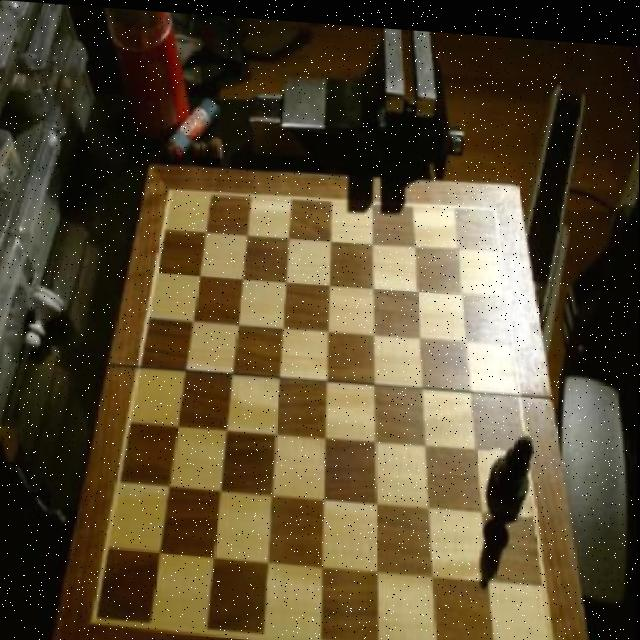bishop: (490, 418, 536, 514)
